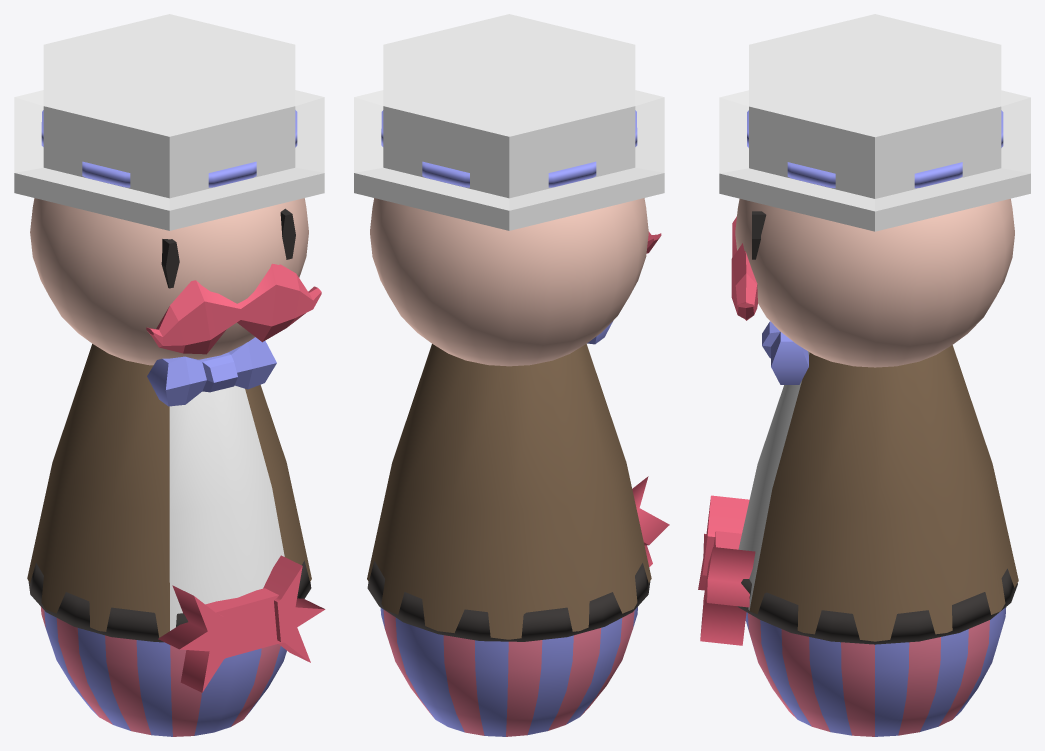
File: SM_character_cottoncandy_01.fbx
3 renders of one model, left to right at view 1: azimuth 30°, elevation 25°; view 2: azimuth 150°, elevation 25°; view 3: azimuth 270°, elevation 25°, orthographic.
Visible parts, largest first — view 1: pCylinder16, pCylinder2, pSphere1, pCylinder18, candy_bag_sq03, pCylinder3, pCylinder6, pCylinder17, pCylinder19, pCylinder5, pCylinder4; view 2: pCylinder16, pCylinder2, pSphere1, pCylinder18, pCylinder17, pCylinder19, candy_bag_sq03; view 3: pCylinder16, pCylinder2, pSphere1, pCylinder18, candy_bag_sq03, pCylinder17, pCylinder6, pCylinder19, pCylinder3.
Boxes of the visible parts, bbox=[...] form: pCylinder16: bbox=[27, 344, 311, 637]; pCylinder2: bbox=[14, 14, 324, 230]; pSphere1: bbox=[30, 198, 308, 365]; pCylinder18: bbox=[40, 606, 286, 736]; candy_bag_sq03: bbox=[158, 555, 325, 692]; pCylinder3: bbox=[146, 263, 321, 354]; pCylinder6: bbox=[147, 337, 276, 406]; pCylinder17: bbox=[28, 560, 311, 642]; pCylinder19: bbox=[41, 110, 297, 187]; pCylinder5: bbox=[161, 239, 179, 288]; pCylinder4: bbox=[280, 208, 295, 259]; pCylinder16: bbox=[367, 344, 651, 639]; pCylinder2: bbox=[354, 14, 664, 230]; pSphere1: bbox=[370, 198, 648, 366]; pCylinder18: bbox=[380, 607, 637, 736]; pCylinder17: bbox=[367, 560, 650, 641]; pCylinder19: bbox=[381, 110, 637, 187]; candy_bag_sq03: bbox=[632, 476, 669, 566]; pCylinder16: bbox=[738, 345, 1018, 641]; pCylinder2: bbox=[719, 14, 1030, 231]; pSphere1: bbox=[735, 198, 1014, 367]; pCylinder18: bbox=[745, 607, 1006, 736]; candy_bag_sq03: bbox=[698, 495, 755, 645]; pCylinder17: bbox=[737, 568, 1017, 644]; pCylinder6: bbox=[762, 321, 808, 384]; pCylinder19: bbox=[747, 110, 1003, 188]; pCylinder3: bbox=[731, 216, 757, 320].
Bounding box in the file's own units: 28.03 × 53.89 × 25.94.
